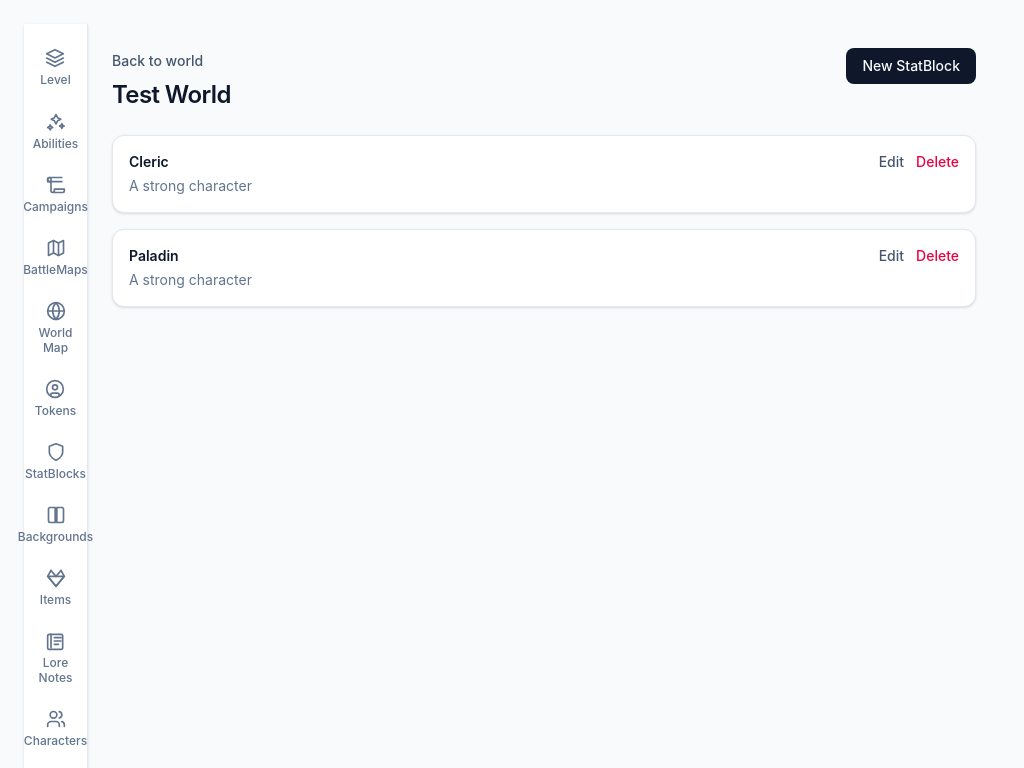
it: StatBlocksPage › delete statblock › removes statblock from list after deletion
Expected: the heading "Paladin" is shown, [129,247,179,264]
Expected: the heading "Cleric" is shown, [129,153,169,170]
Click the button "Delete" in the row of "Paladin". click: (938, 256)
box: [916,246,959,266]
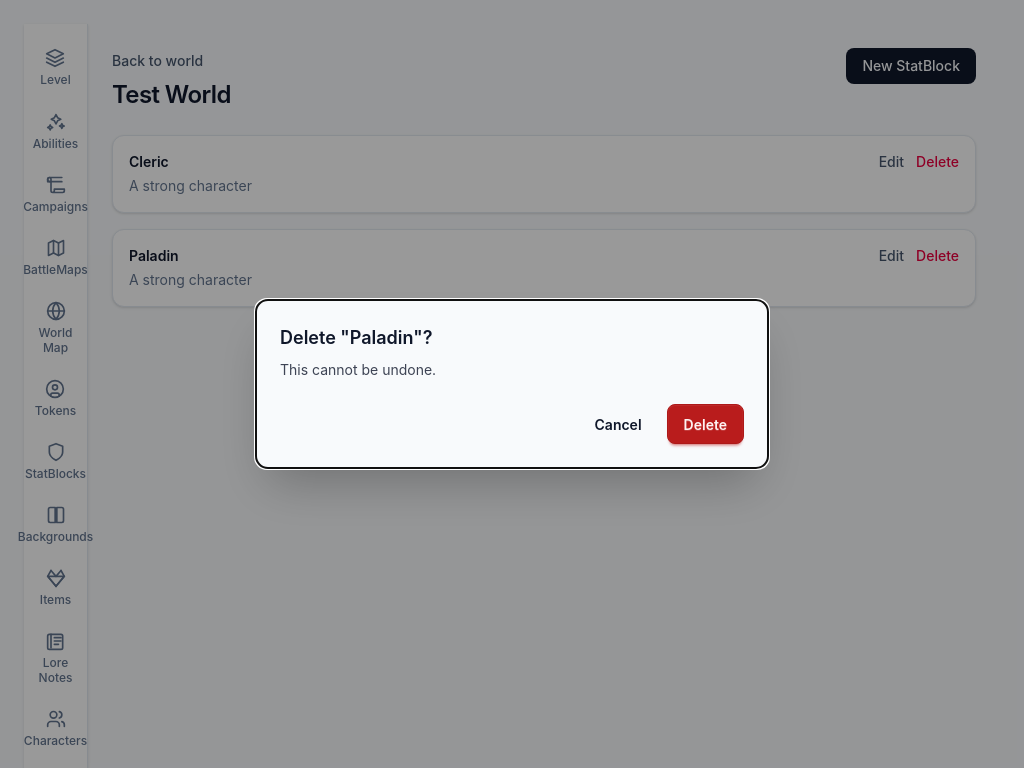
Click the button "Delete". click: (705, 424)
box: [667,404,744,444]
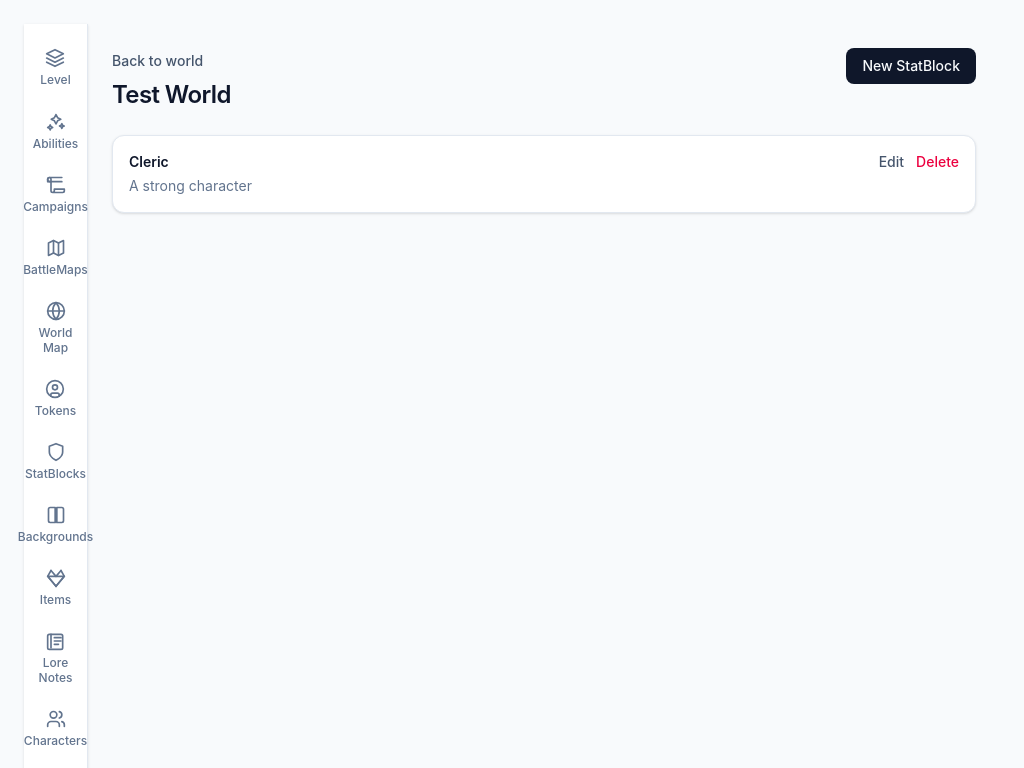
Expected: the heading "Cleric" is shown, [129,153,169,170]
Now the heading "Paladin" is gone
